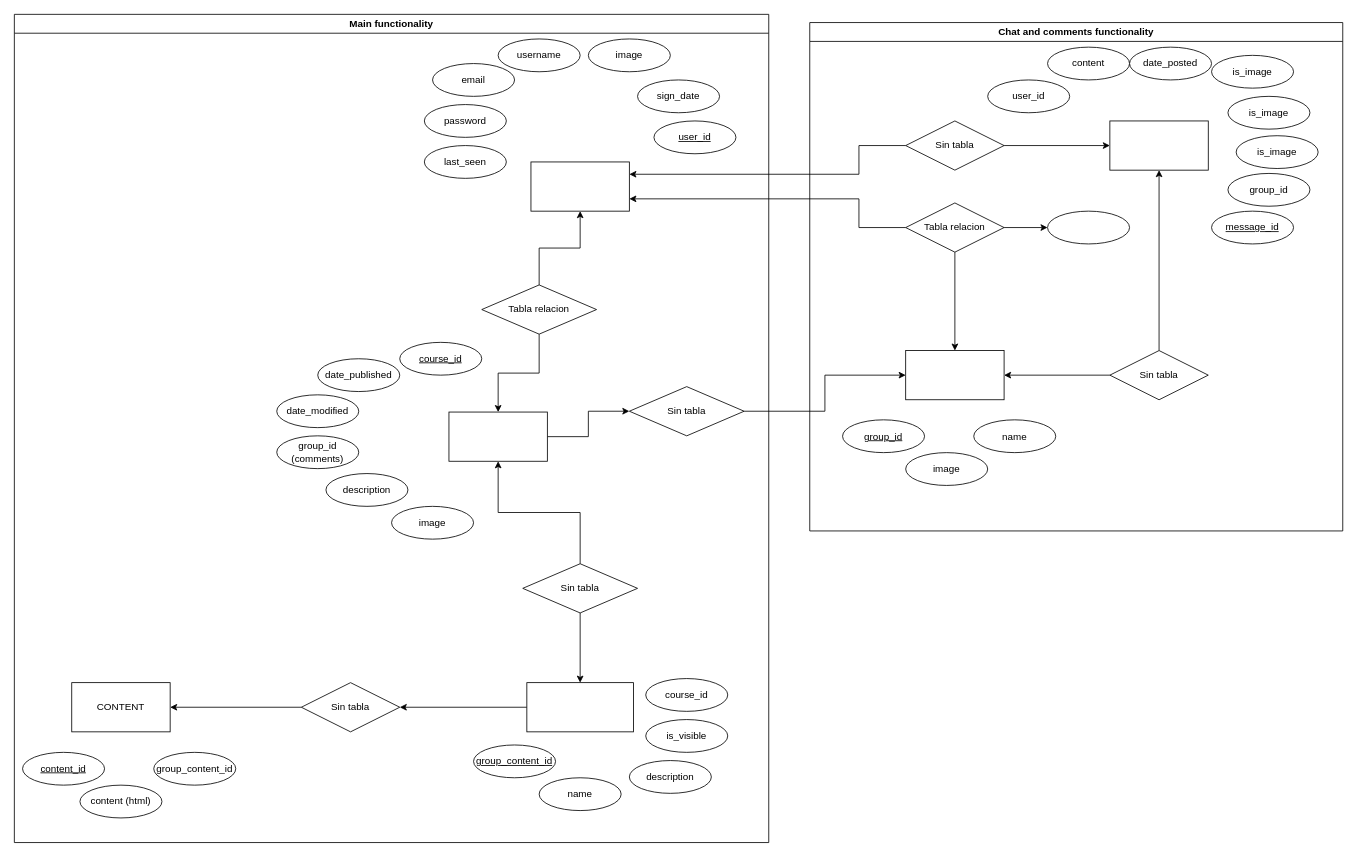
Some shapes in this 1357 by 857 pixel diagram are drawn without their labels. Each missing label, with the centre of its shape:
CONTENT_COURSE: the point at 579,707
COURSE: the point at 497,436
GROUP: the point at 954,375
join_date: the point at 1088,227
MESSAGE: the point at 1158,145
USER: the point at 579,186
